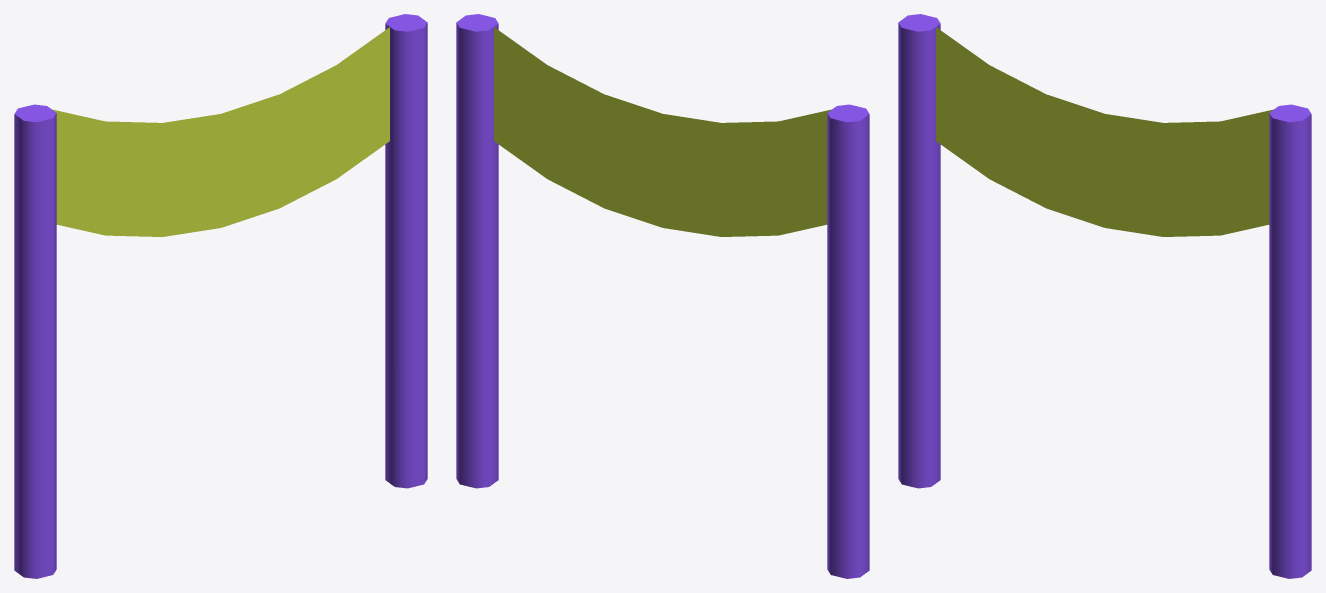
Rendered from banner_hanging_high.fbx.
3 views of the same model, side by side, from view 1: azimuth 30°, elevation 25°; view 2: azimuth 150°, elevation 25°; view 3: azimuth 330°, elevation 25° (orthographic).
Parts seen in each view (by area): view 1: banner_hanging_high; view 2: banner_hanging_high; view 3: banner_hanging_high.
Boxes of the visible parts, box(x1,y1,x2,y2) form: banner_hanging_high: box(14, 14, 427, 578); banner_hanging_high: box(456, 14, 869, 578); banner_hanging_high: box(898, 14, 1311, 578).
Bounding box in the file's own units: 9.25 × 10 × 0.75.
